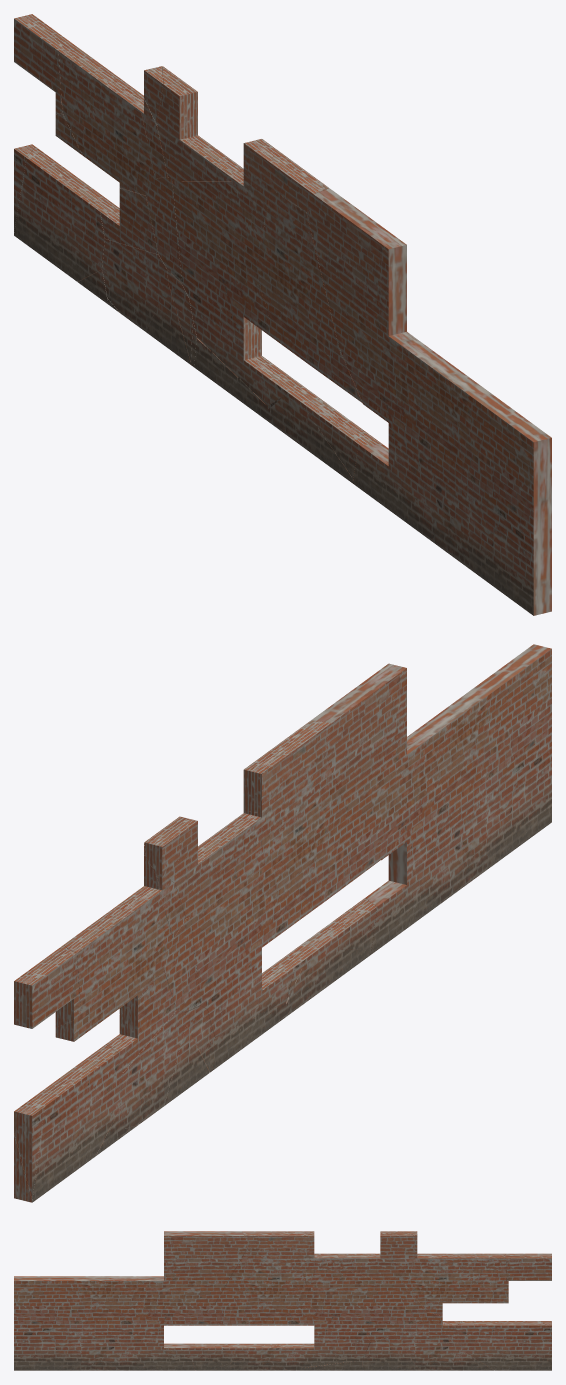
Rendered from Skate Wall 2.fbx.
The picture shows the model from 3 angles, top to bottom: view 1: azimuth 30°, elevation 25°; view 2: azimuth 150°, elevation 25°; view 3: azimuth 270°, elevation 25°; orthographic projection. The views are drawn at different scales.
Visible parts, largest first — view 1: Skate Wall 2.002, Skate Wall 2, Skate Wall 2.001; view 2: Skate Wall 2.002, Skate Wall 2, Skate Wall 2.001; view 3: Skate Wall 2.002, Skate Wall 2, Skate Wall 2.001.
Boxes of the visible parts, <box> form: Skate Wall 2.002: <box>306,188,551,615</box>; Skate Wall 2: <box>157,66,382,483</box>; Skate Wall 2.001: <box>14,14,197,366</box>; Skate Wall 2.002: <box>311,644,551,954</box>; Skate Wall 2: <box>144,720,380,1070</box>; Skate Wall 2.001: <box>14,833,214,1202</box>; Skate Wall 2.002: <box>14,1231,249,1370</box>; Skate Wall 2: <box>188,1231,417,1370</box>; Skate Wall 2.001: <box>362,1231,551,1370</box>.
Size of the model in its own units: 0.15 by 2.04 by 7.37.
